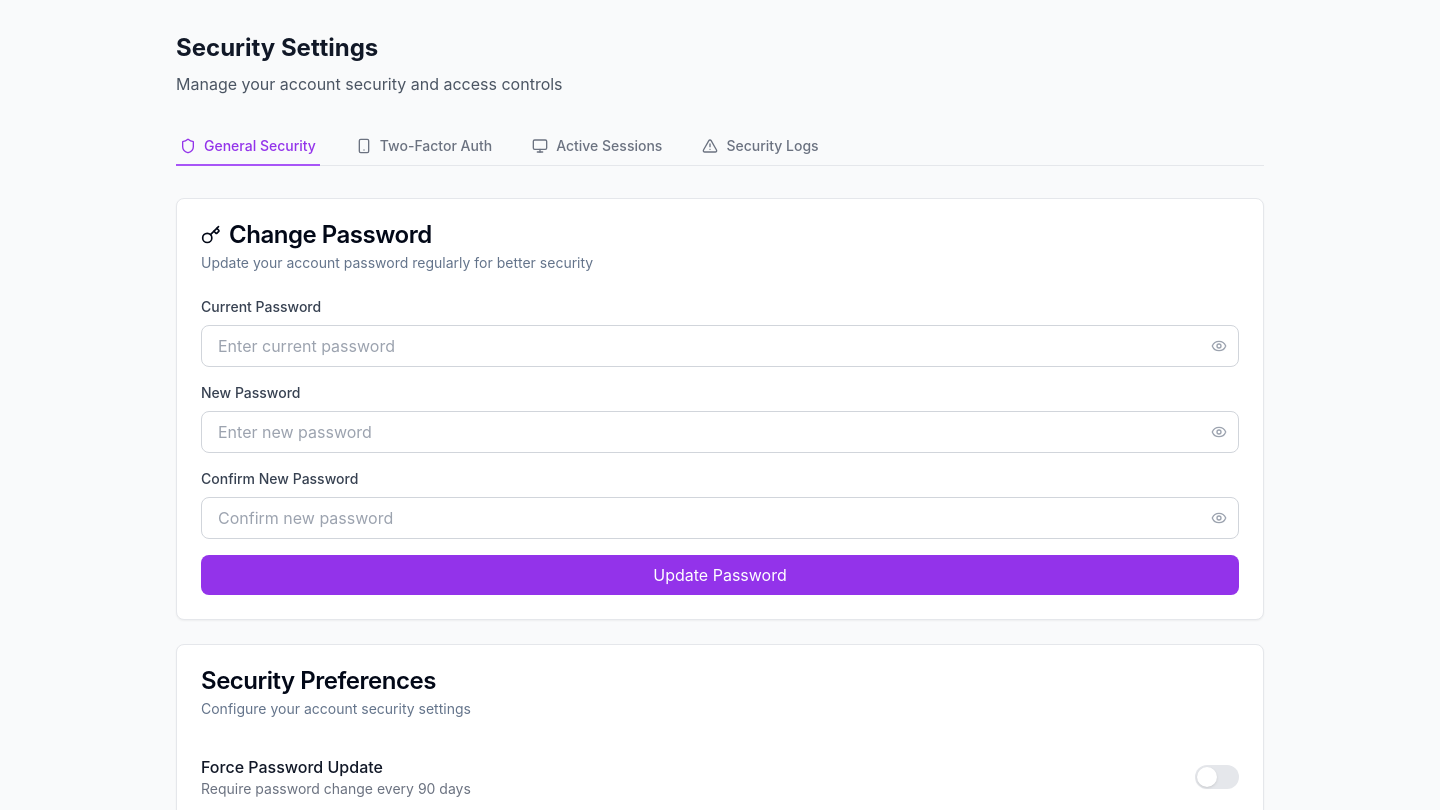
Test case: ProductionSettingsSecurity › switches to Security Logs tab
This screenshot has width=1440, height=810.
Click the button "Security Logs" at x=761, y=147, box [698,128,823,166]
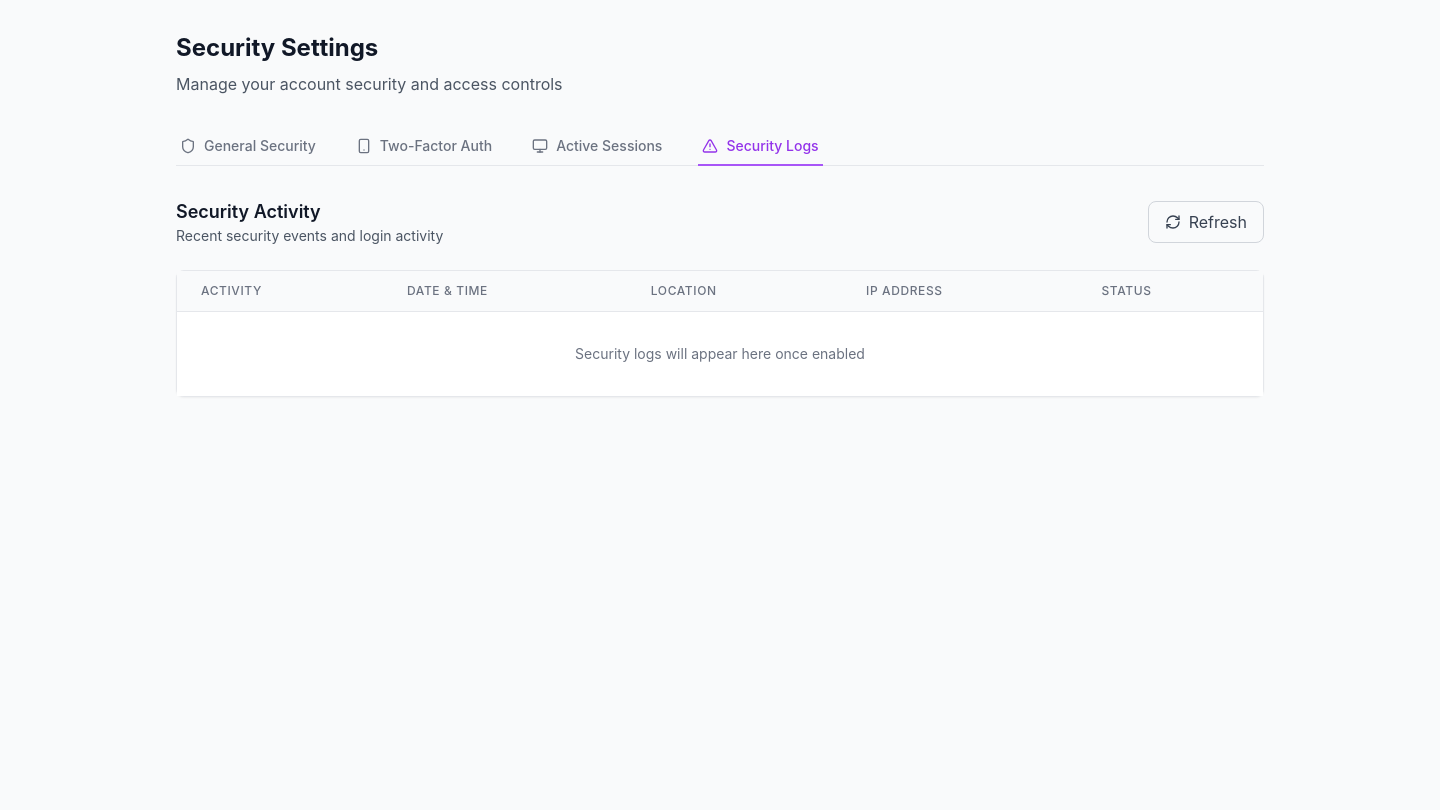
Check: the heading "Security Activity" is shown, box [176,201,321,222]
Check: the button "Refresh" is shown, box [1148,201,1264,243]
